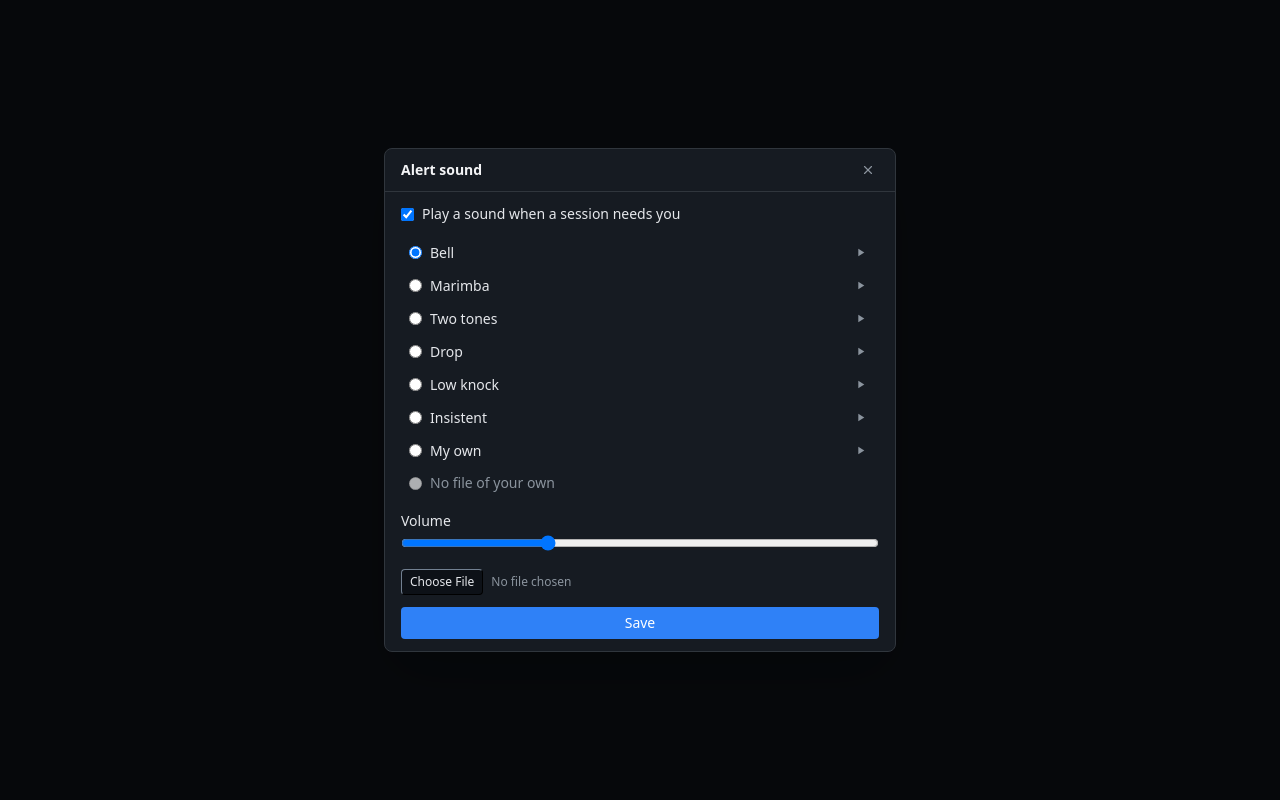
Test: Ajustes de la campanilla › un error del servidor se enseña traducido
This screenshot has width=1280, height=800.
Click the button "Save".
click(640, 623)  # box [401,607,879,639]
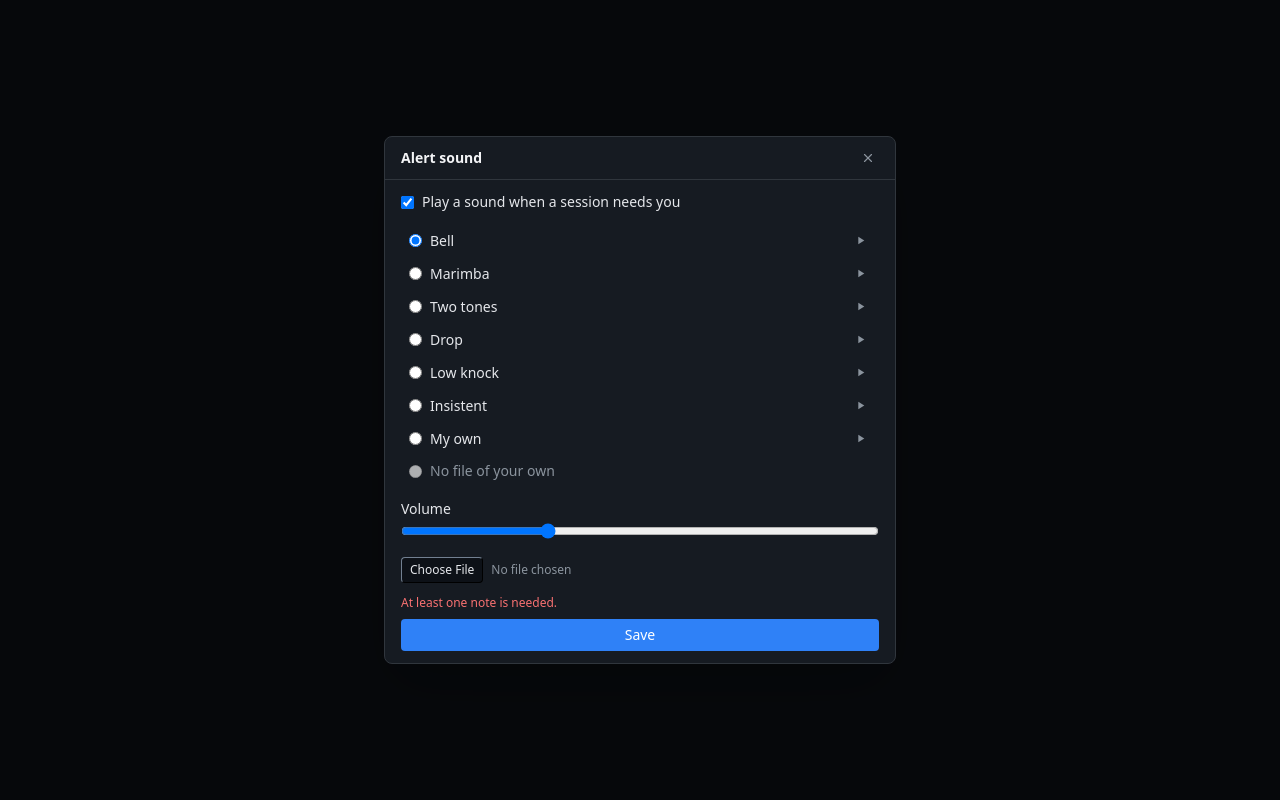
Expected: the text "At least one note is needed." is shown, [401,594,557,611]
